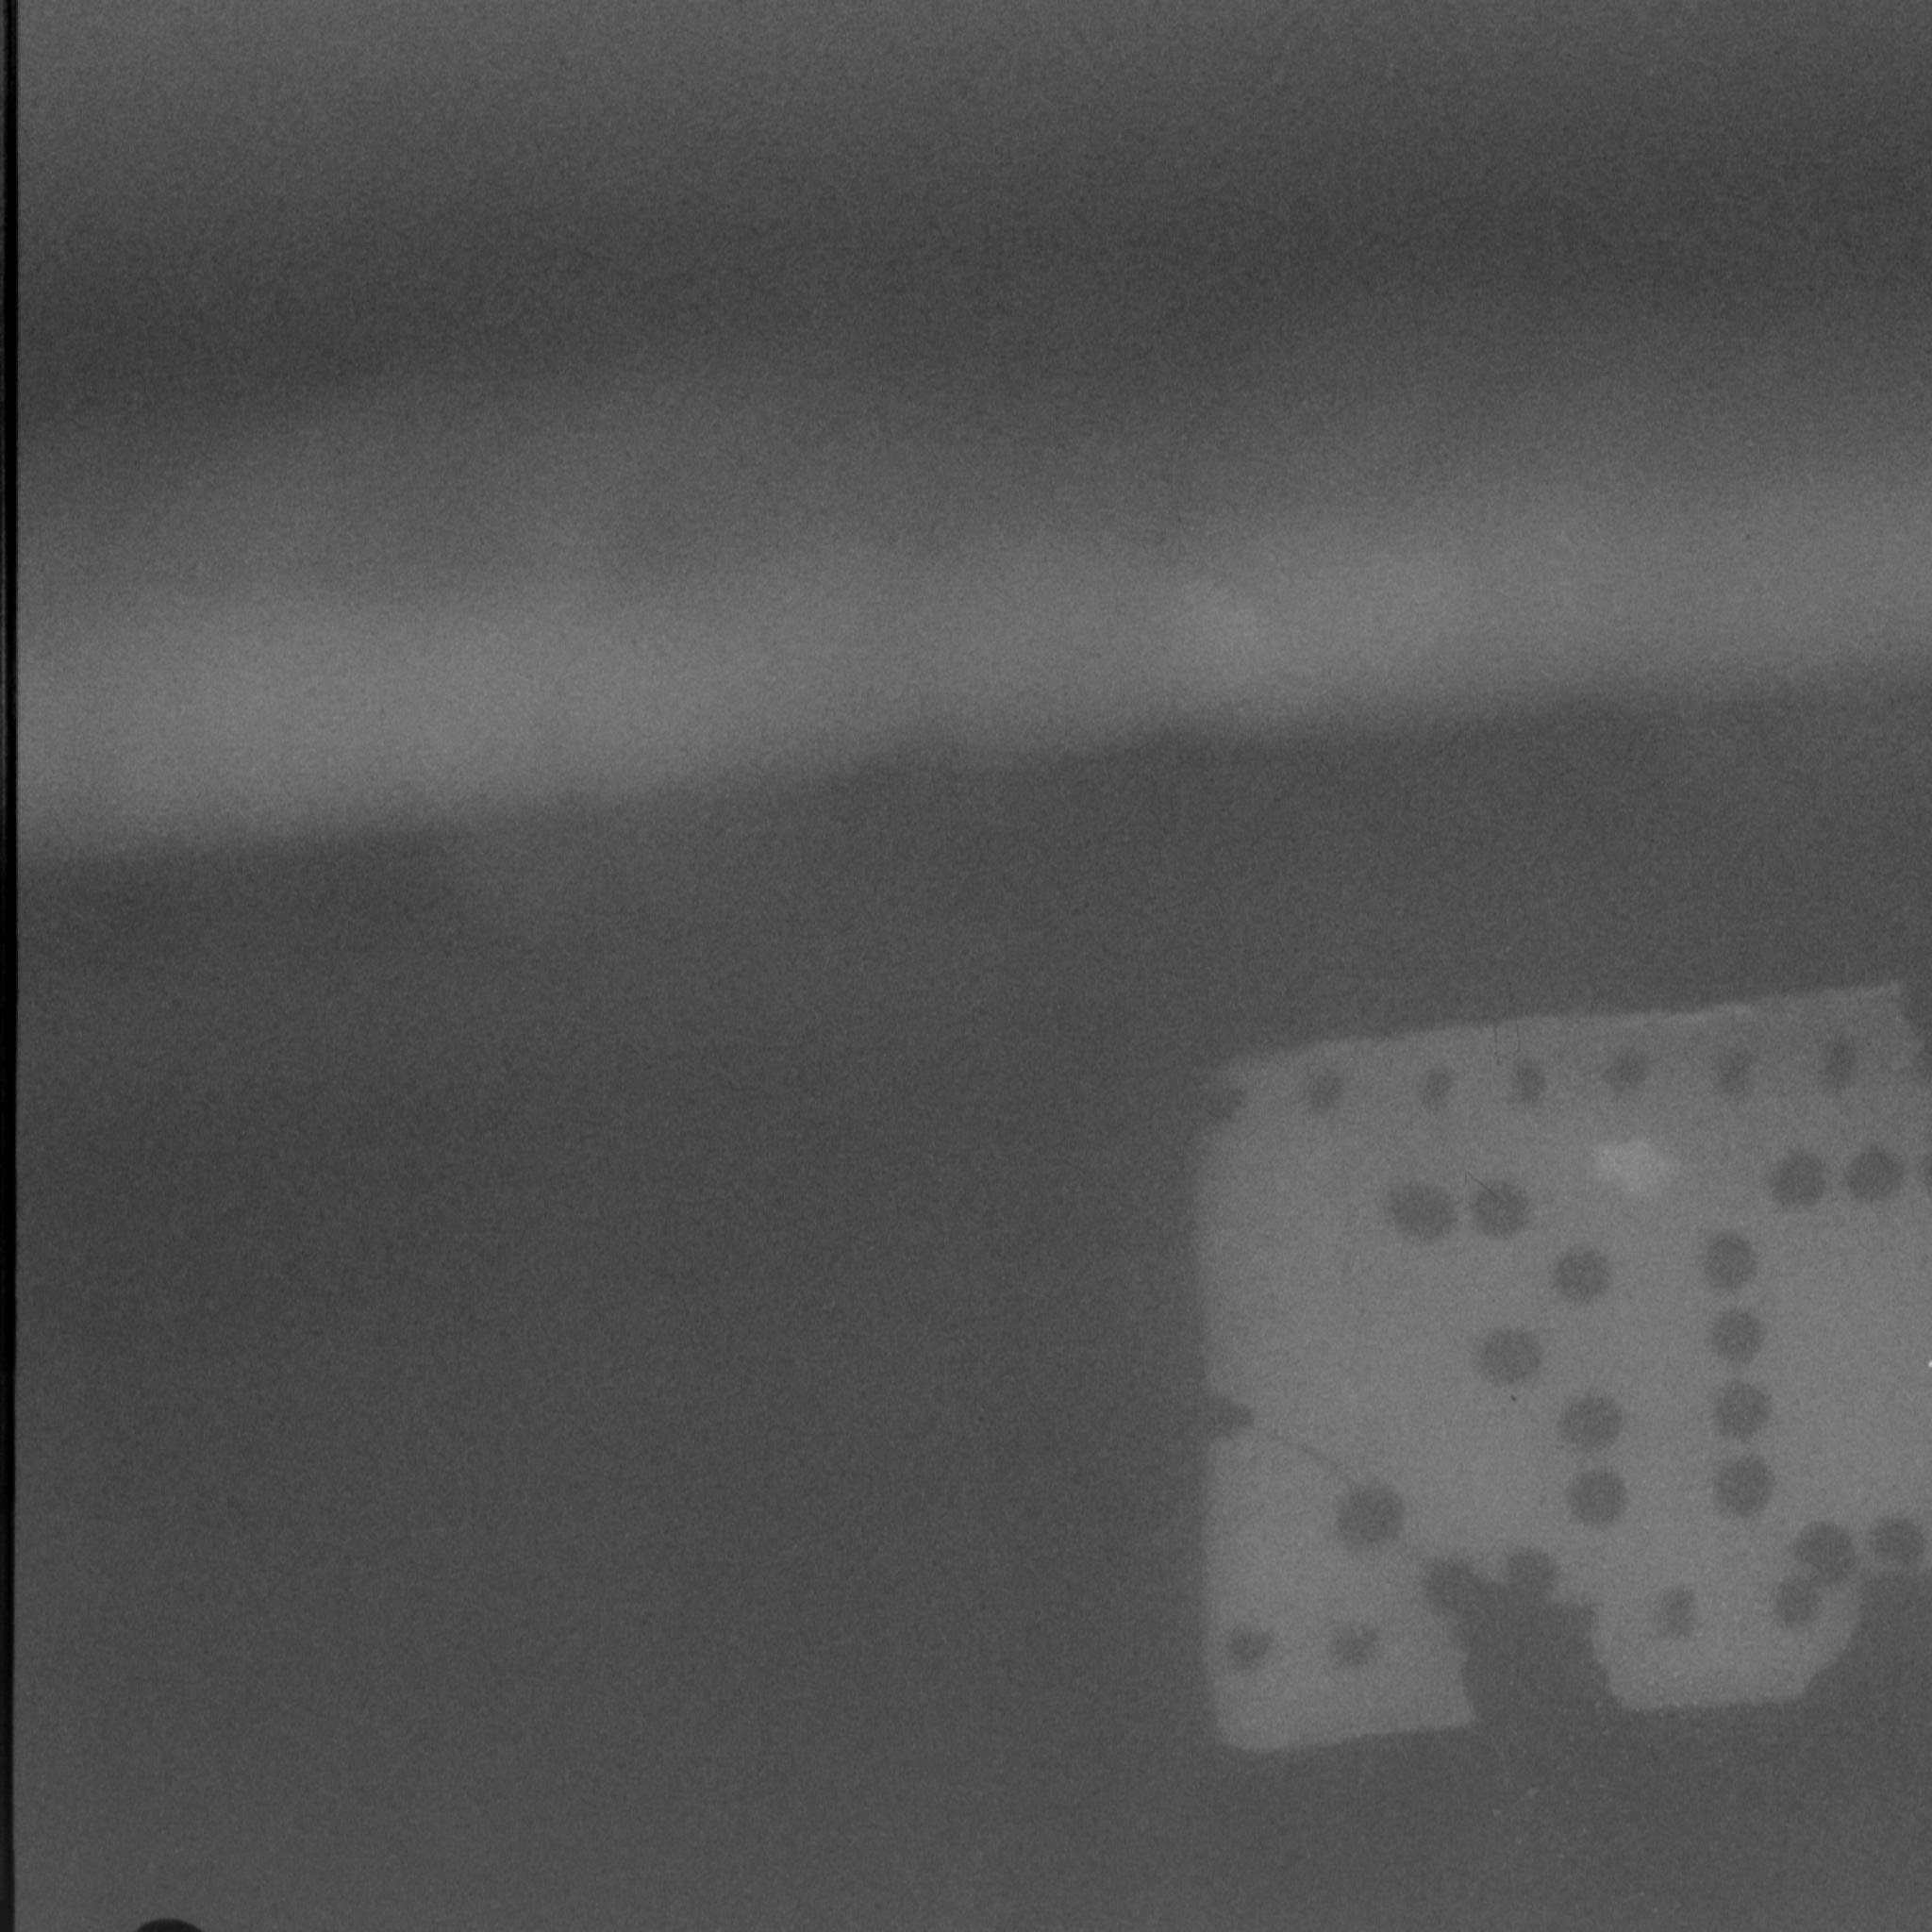Sem defeitos: (0, 214, 1932, 892)
